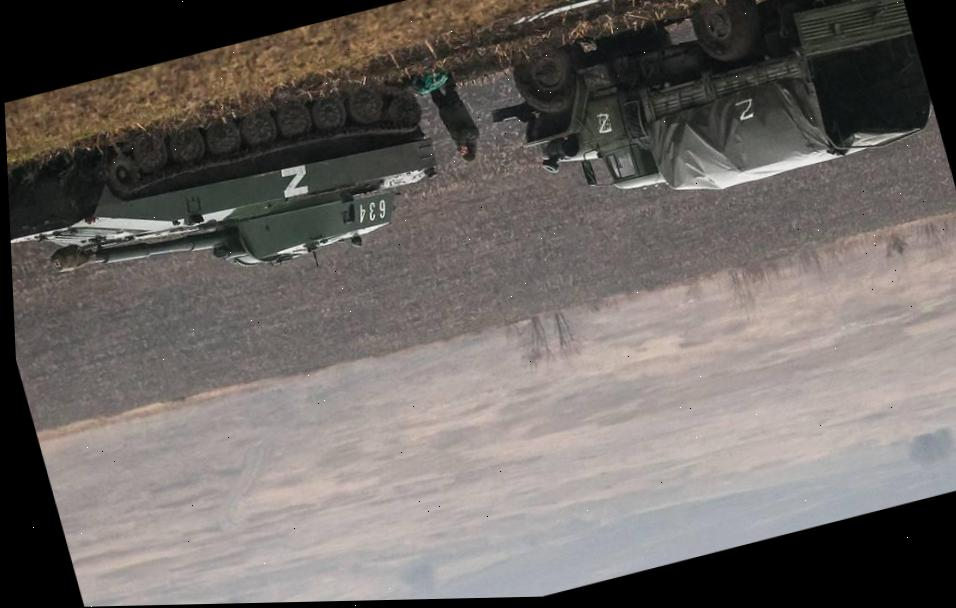person: (425, 64, 489, 166)
sau: (3, 55, 450, 326)
truck: (492, 0, 944, 232)
